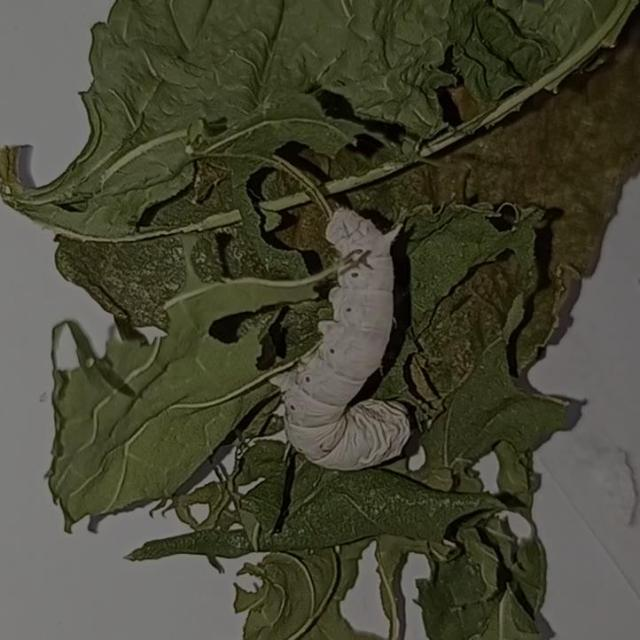Healthy: (265, 166, 444, 481)
